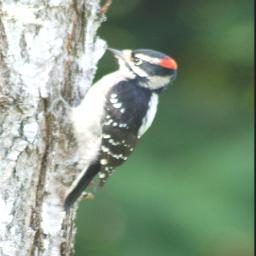Woodpecker: (52, 42, 182, 215)
